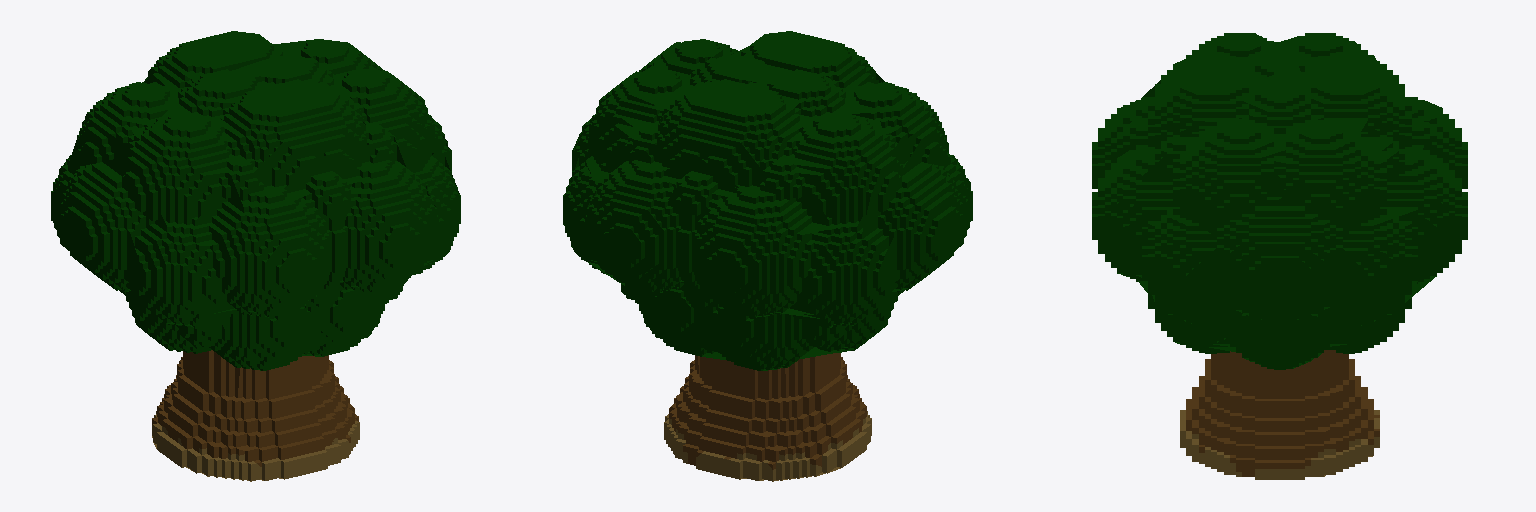
File: Tree01.obj
The picture shows the model from 3 angles: view 1: azimuth 30°, elevation 25°; view 2: azimuth 150°, elevation 25°; view 3: azimuth 270°, elevation 25°; orthographic projection.
Visible parts, largest first — view 1: Tree01; view 2: Tree01; view 3: Tree01.
Part boxes in pixels (left/top/right/bottom): Tree01: left=51, top=31, right=460, bottom=481; Tree01: left=563, top=31, right=972, bottom=481; Tree01: left=1092, top=33, right=1467, bottom=479.
Size of the model in its own units: 4.12 by 4 by 3.75.